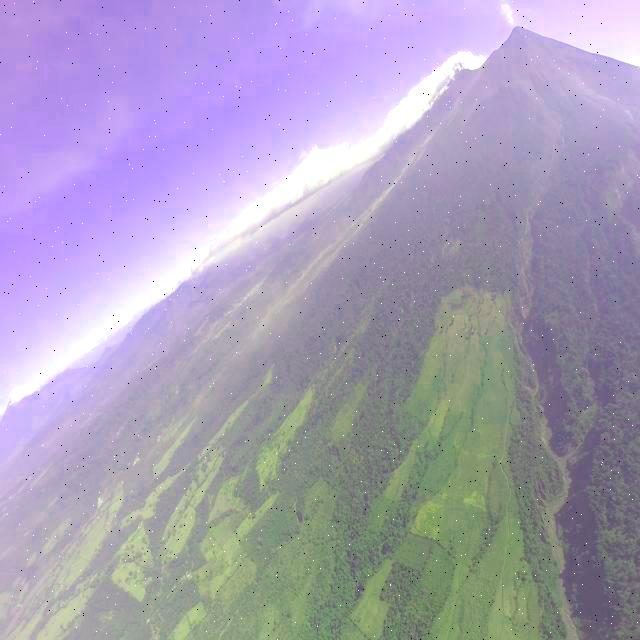Plume: (501, 4, 515, 28)
Summit: (511, 24, 525, 31)
